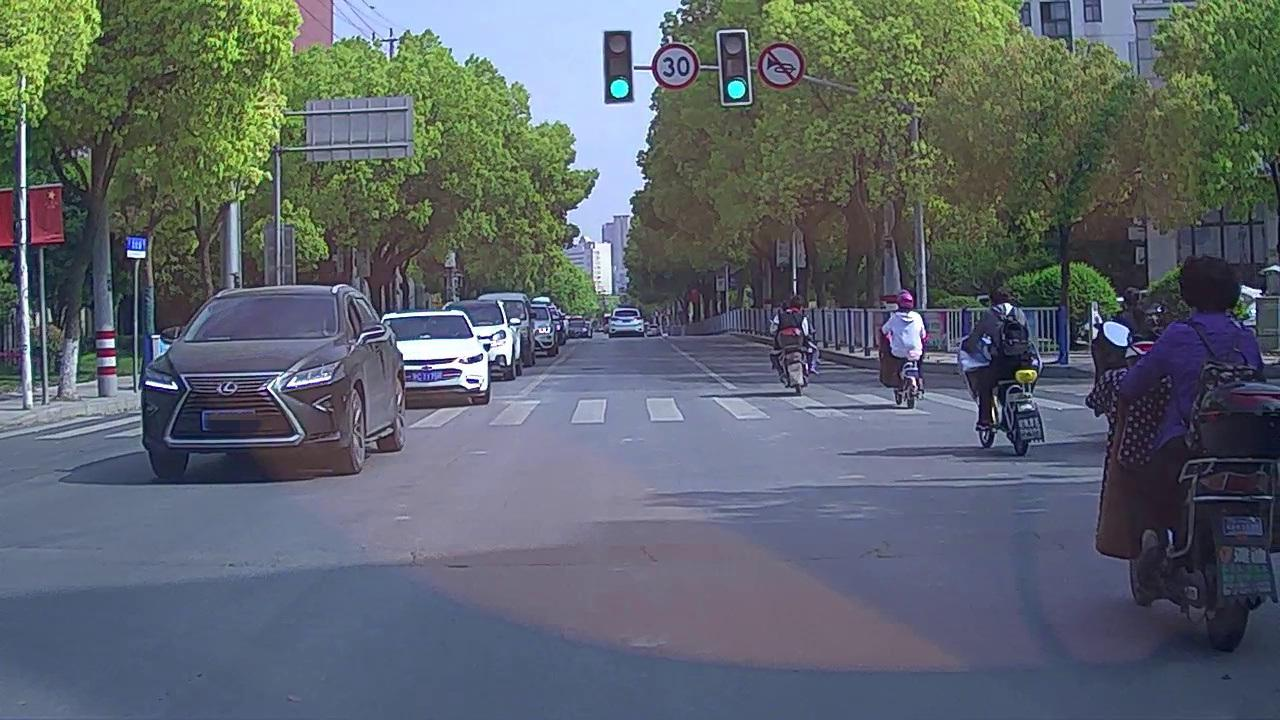traffic_light: (718, 33, 752, 103), (606, 28, 634, 100)
